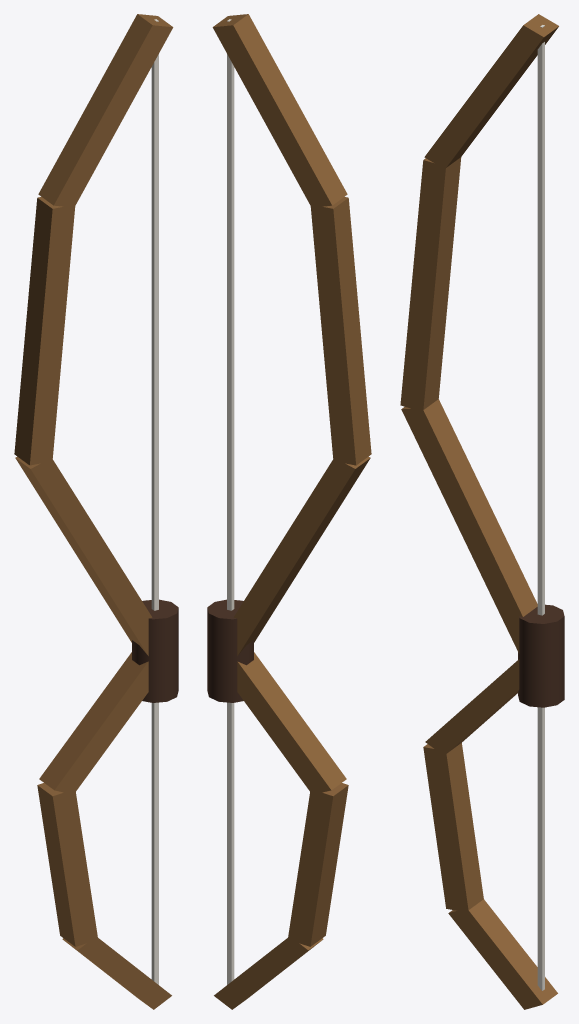
Rendered from persian-bow.glb.
3 views of the same model, side by side, from view 1: azimuth 30°, elevation 25°; view 2: azimuth 150°, elevation 25°; view 3: azimuth 330°, elevation 25° (orthographic).
Visible parts, largest first — view 1: BowLimb (×6), String, Grip; view 2: BowLimb (×6), String, Grip; view 3: BowLimb (×6), String, Grip.
Part boxes in pixels (x1,y1,x2,y2): BowLimb (×6): [14, 14, 173, 1009]; String: [151, 19, 158, 984]; Grip: [132, 599, 178, 702]; BowLimb (×6): [212, 14, 371, 1009]; String: [227, 19, 234, 984]; Grip: [207, 599, 253, 702]; BowLimb (×6): [400, 14, 558, 1009]; String: [537, 25, 544, 990]; Grip: [518, 604, 564, 707].
Bounding box in the file's own units: 0.2006 × 1.24 × 0.054.
